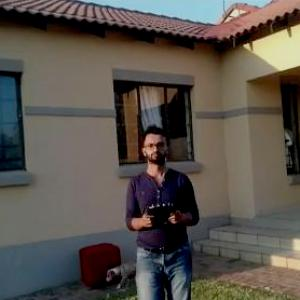follow: (119, 118, 206, 299)
null: (104, 254, 139, 292)
